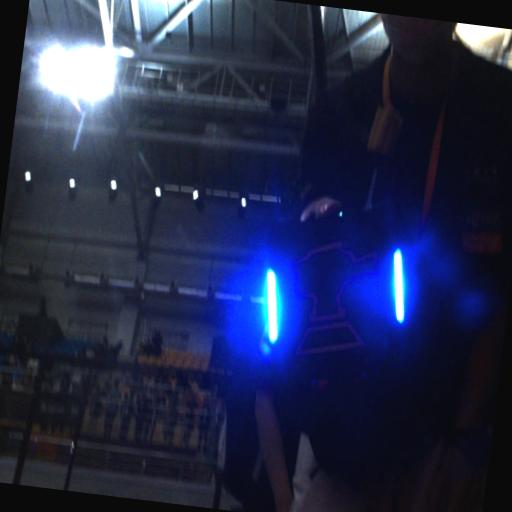target: (256, 214, 420, 382)
